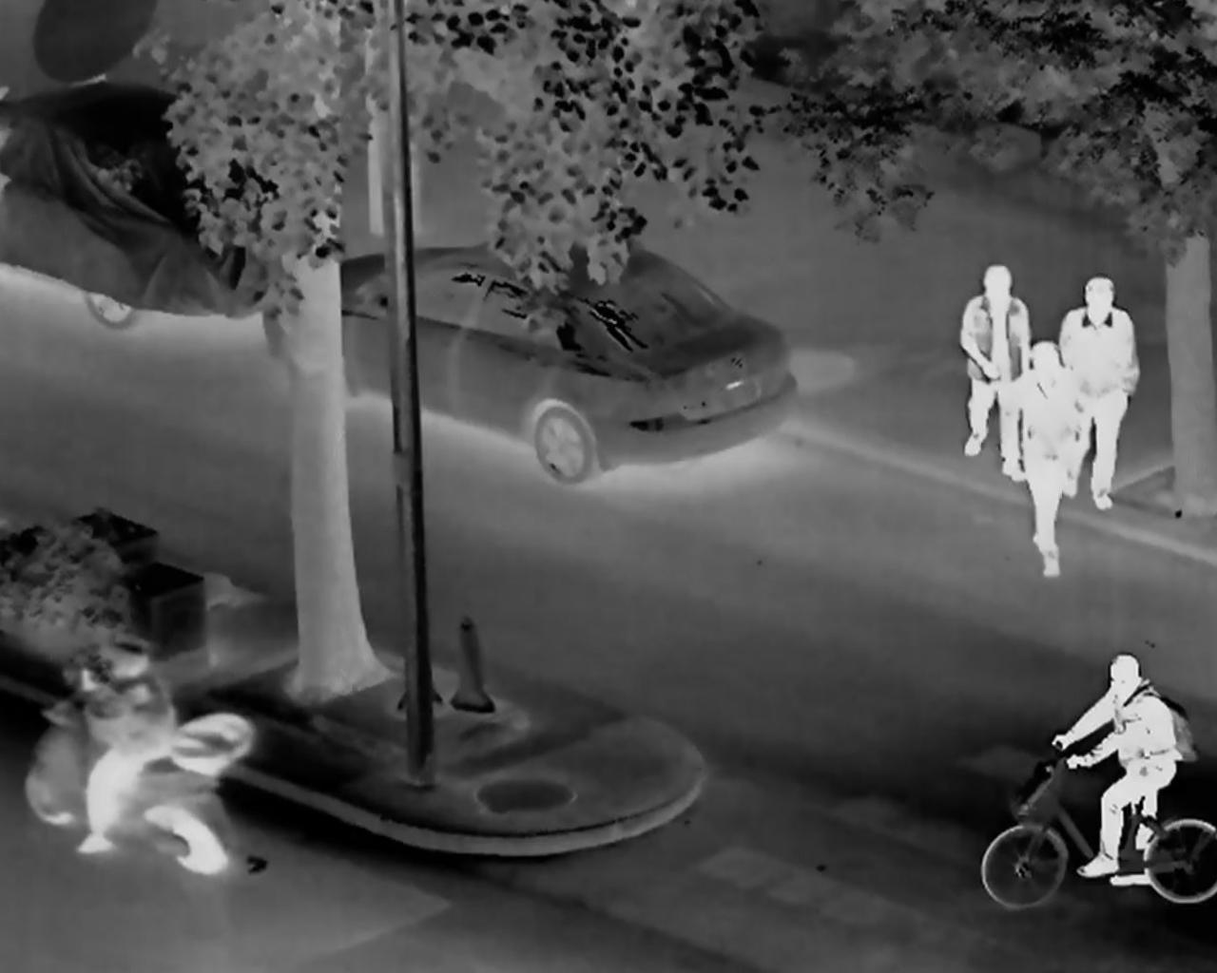person: (1046, 654, 1182, 887), (63, 645, 176, 853), (1061, 278, 1140, 514), (960, 262, 1028, 481), (1021, 340, 1073, 580)
